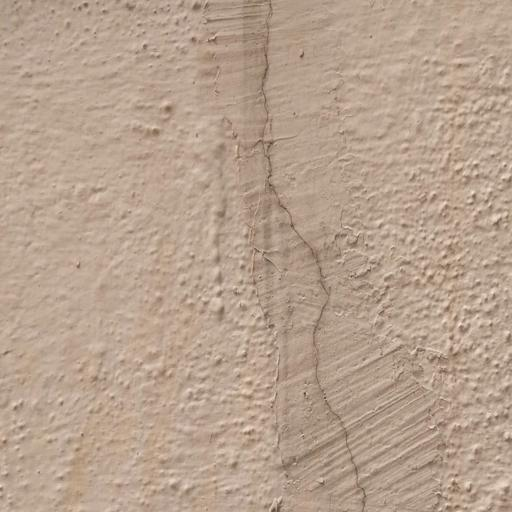minor_crack: (198, 4, 382, 512)
